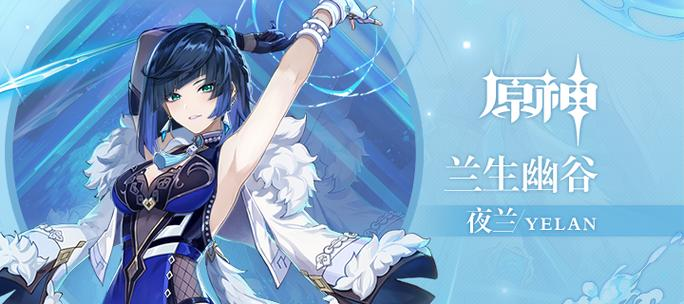夜兰: (99, 1, 384, 303)
